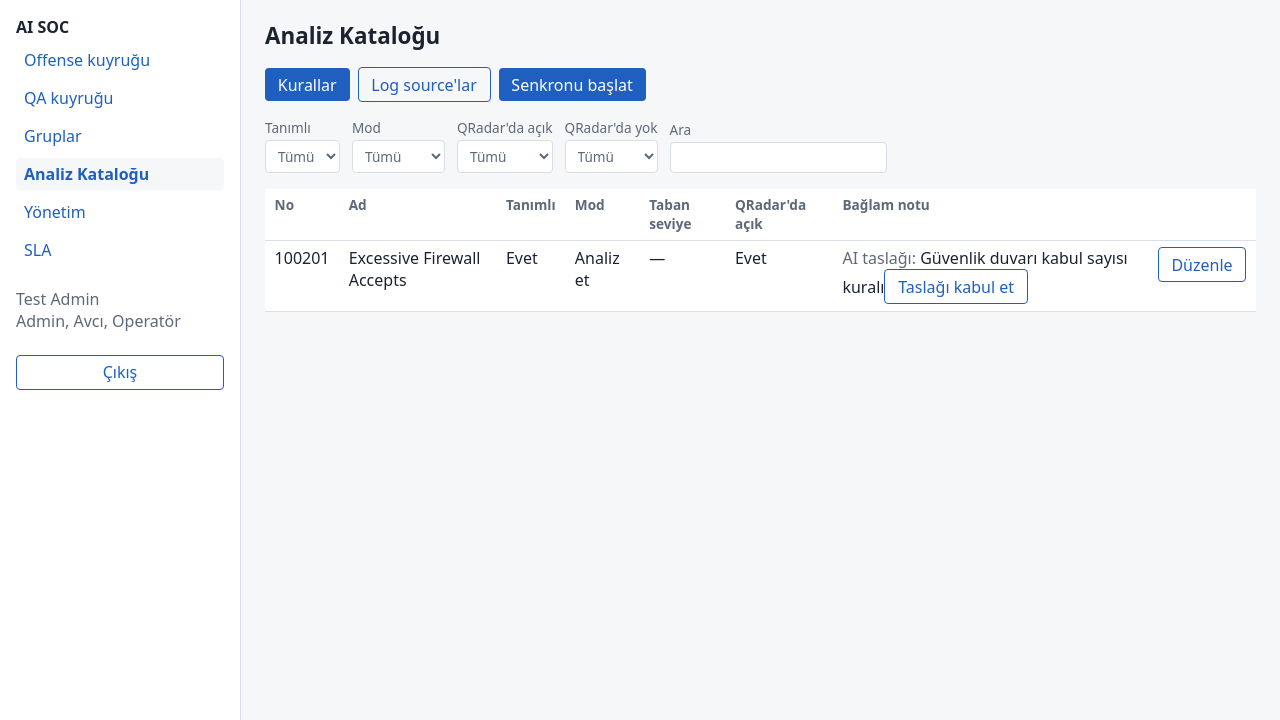
Test: catalog (criterion 8) › accepts the AI draft
Expected: the text "Güvenlik duvarı kabul sayısı kuralı" is shown, [842, 247, 1128, 298]
What coordinates should you click on to do the following:
click the button "Taslağı kabul et"
I would click on:
 (956, 287)
Its box is [884, 269, 1028, 304].
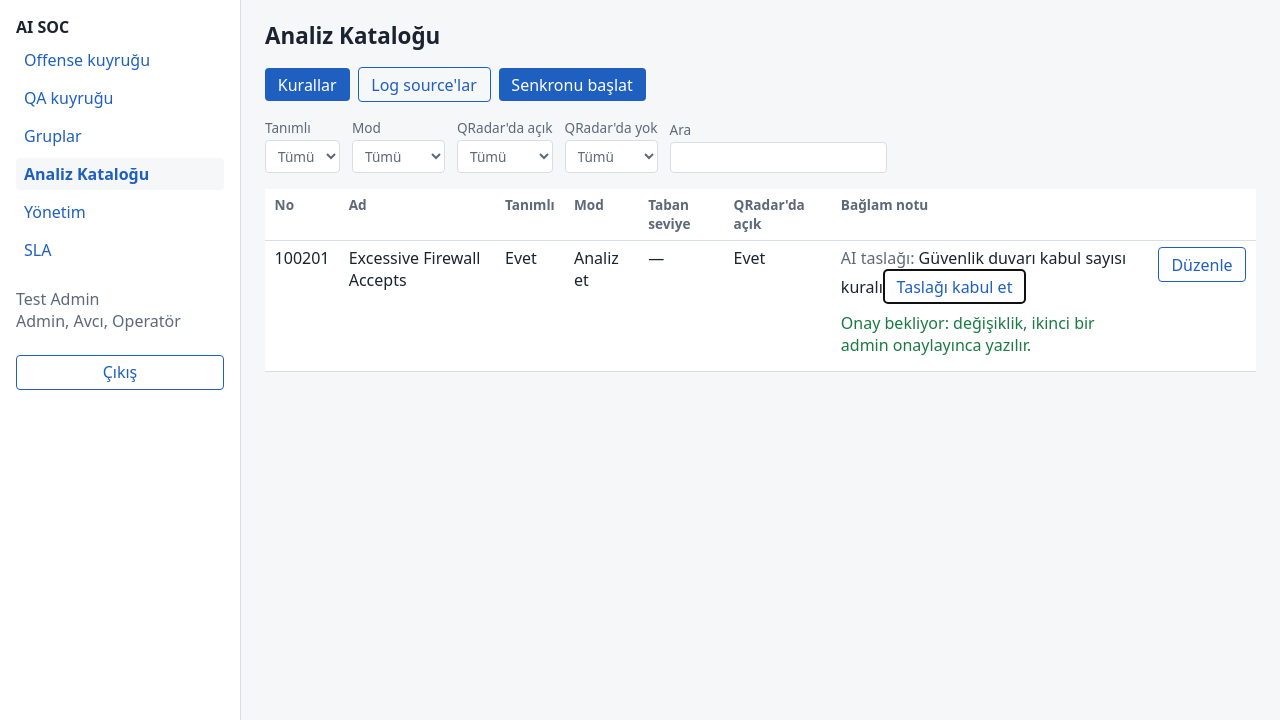
Expected: the text "Onay bekliyor: değişiklik, ikinci bir admin onaylayınca yazılır." is shown, [841, 312, 1138, 356]
